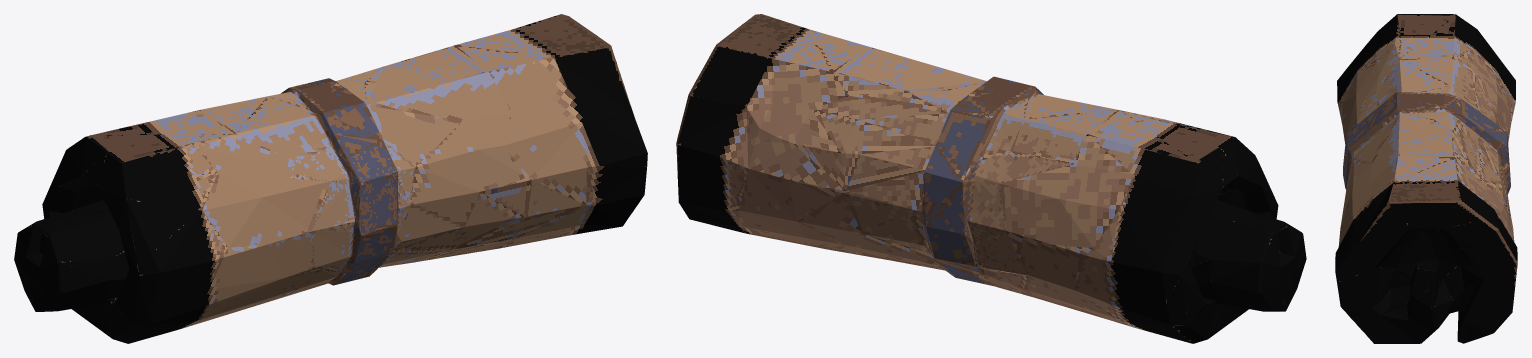
The picture shows the model from 3 angles, left to right: view 1: azimuth 30°, elevation 25°; view 2: azimuth 150°, elevation 25°; view 3: azimuth 270°, elevation 25°; orthographic projection. The views are drawn at different scales.
Parts seen in each view (by area): view 1: OBJ138; view 2: OBJ138; view 3: OBJ138.
Part boxes in pixels (x1,y1,x2,y2): OBJ138: (14, 14, 647, 343); OBJ138: (676, 14, 1306, 343); OBJ138: (1335, 14, 1517, 343).
Size of the model in its own units: 0.3312 by 0.0986 by 0.1141.
Materials: 1 (1 with a texture image).
